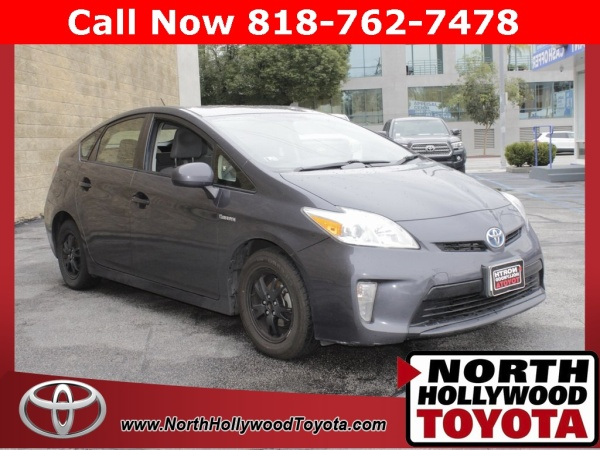Toyota Prius: (41, 102, 549, 364)
